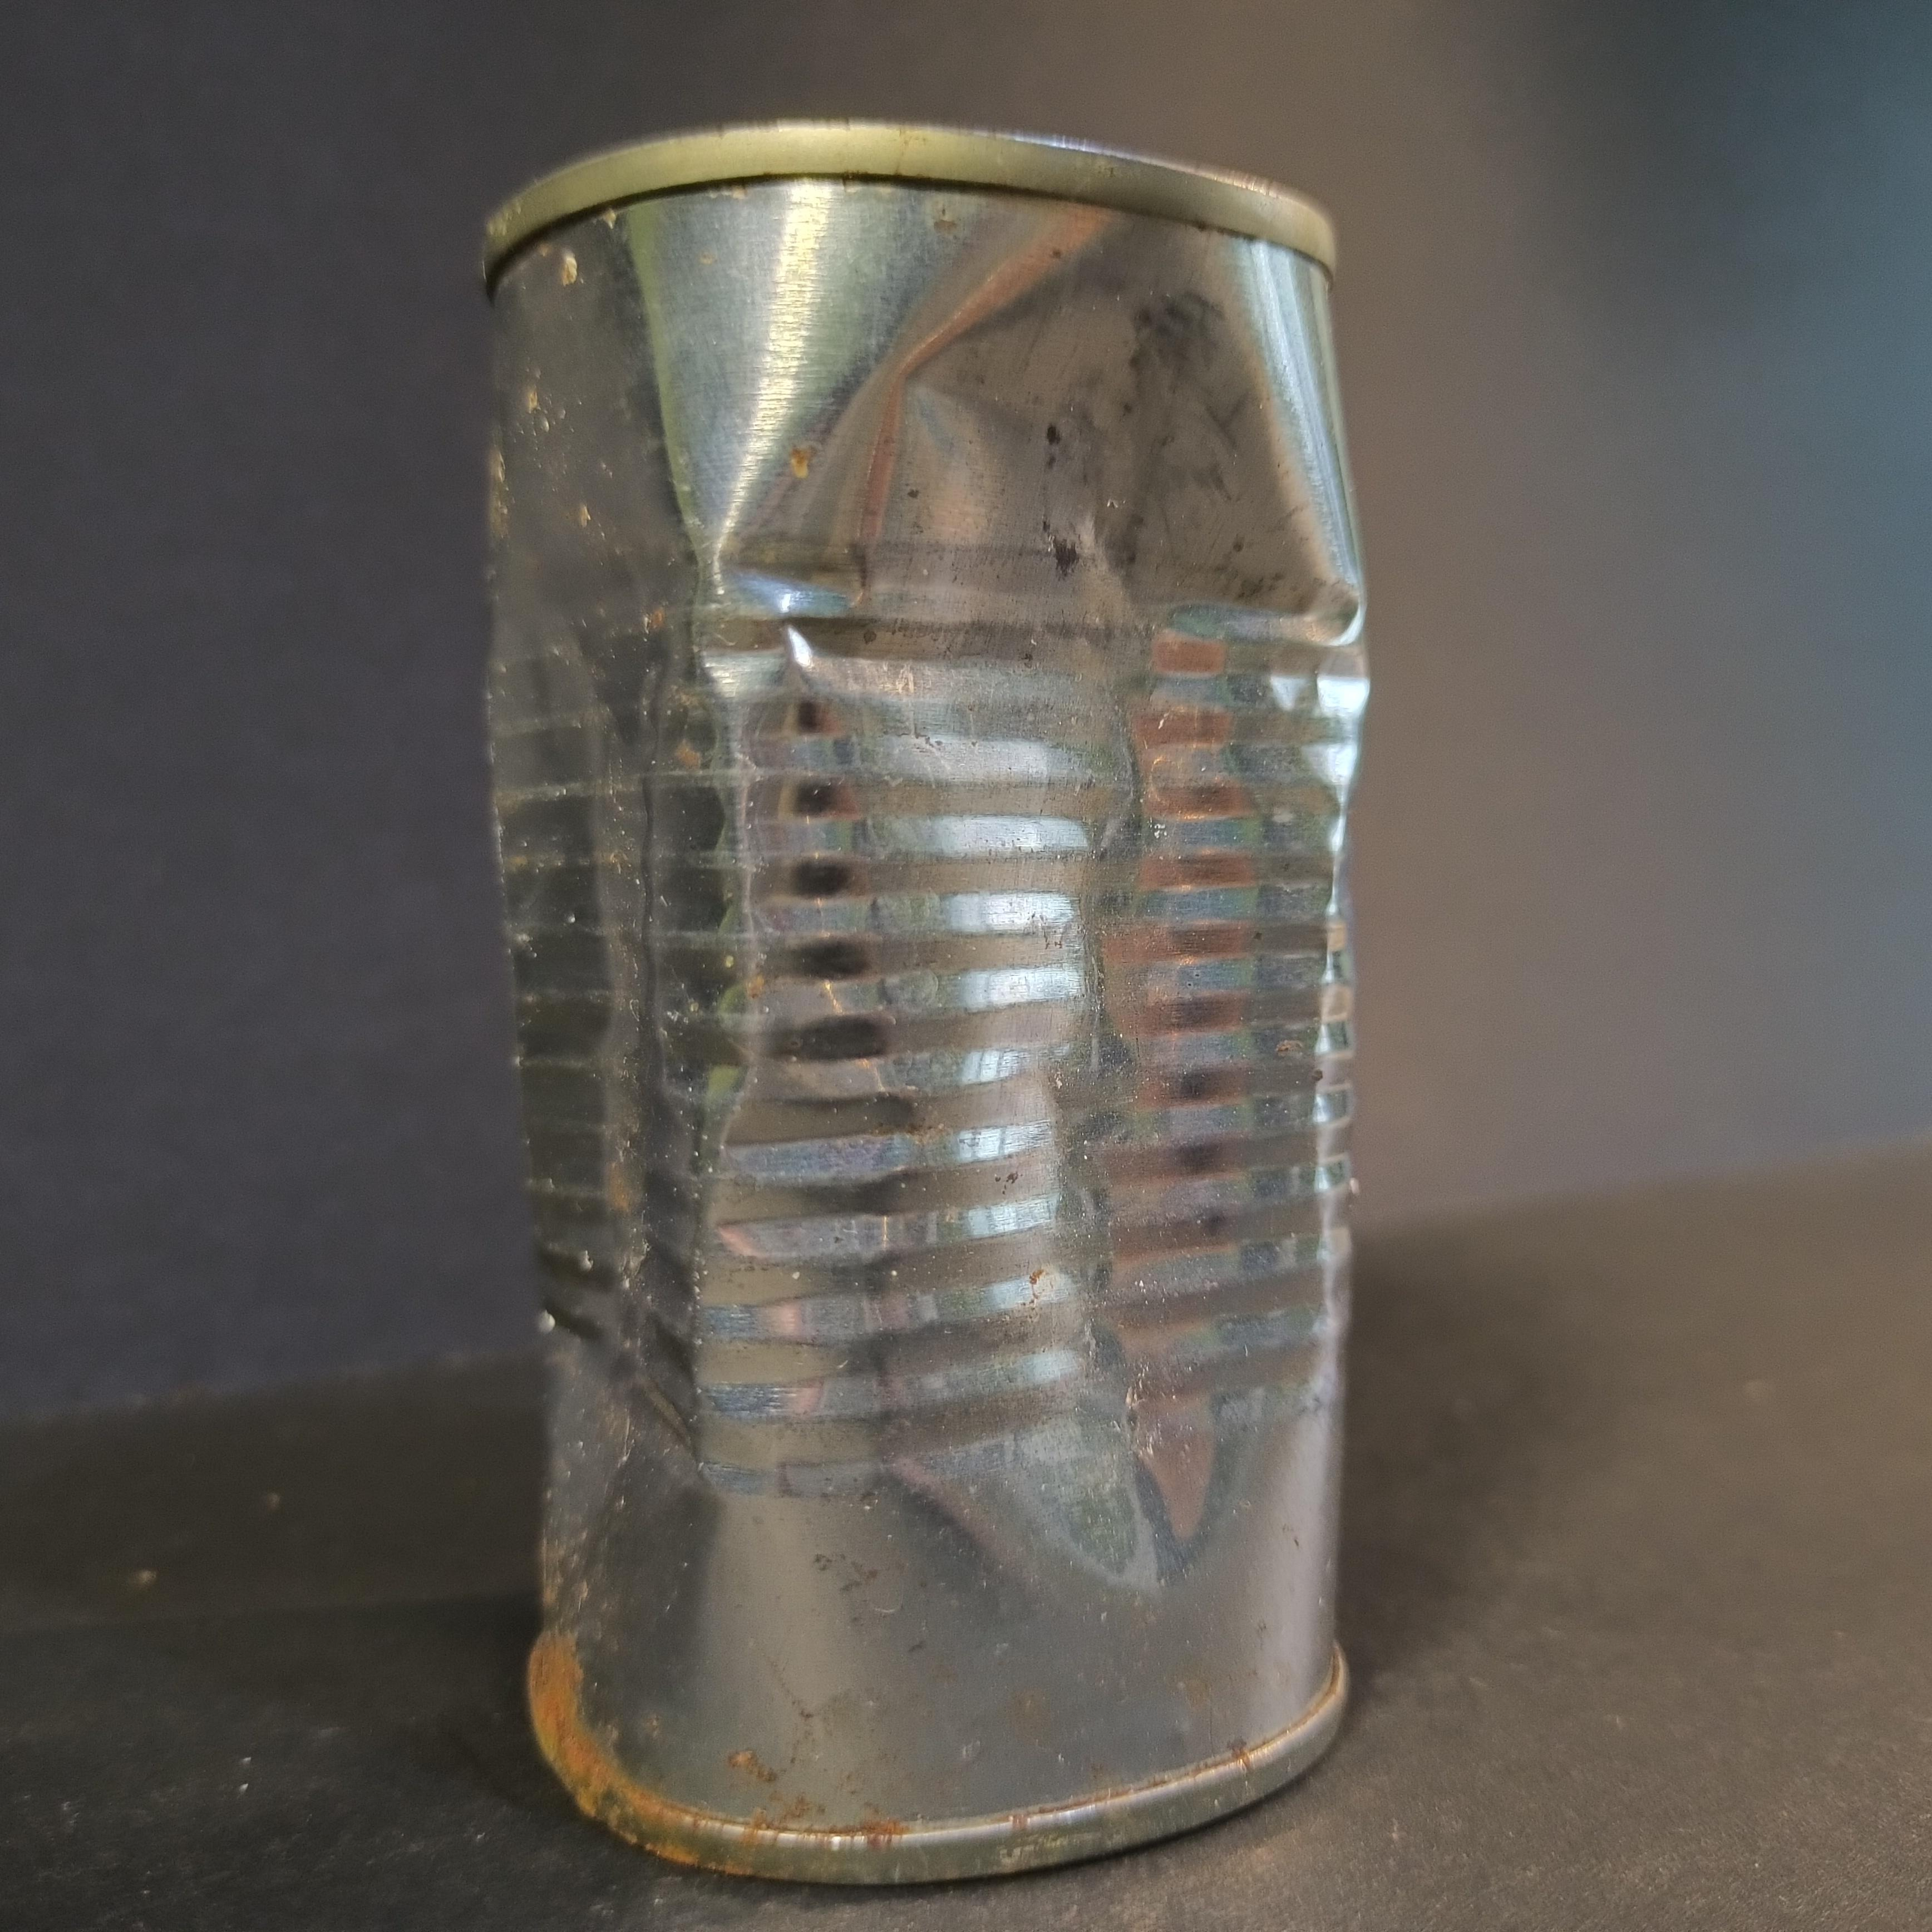Dented: (456, 88, 1422, 1918)
